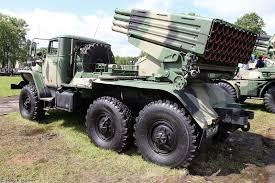MIL_SAM_TEL: (17, 8, 257, 168)
